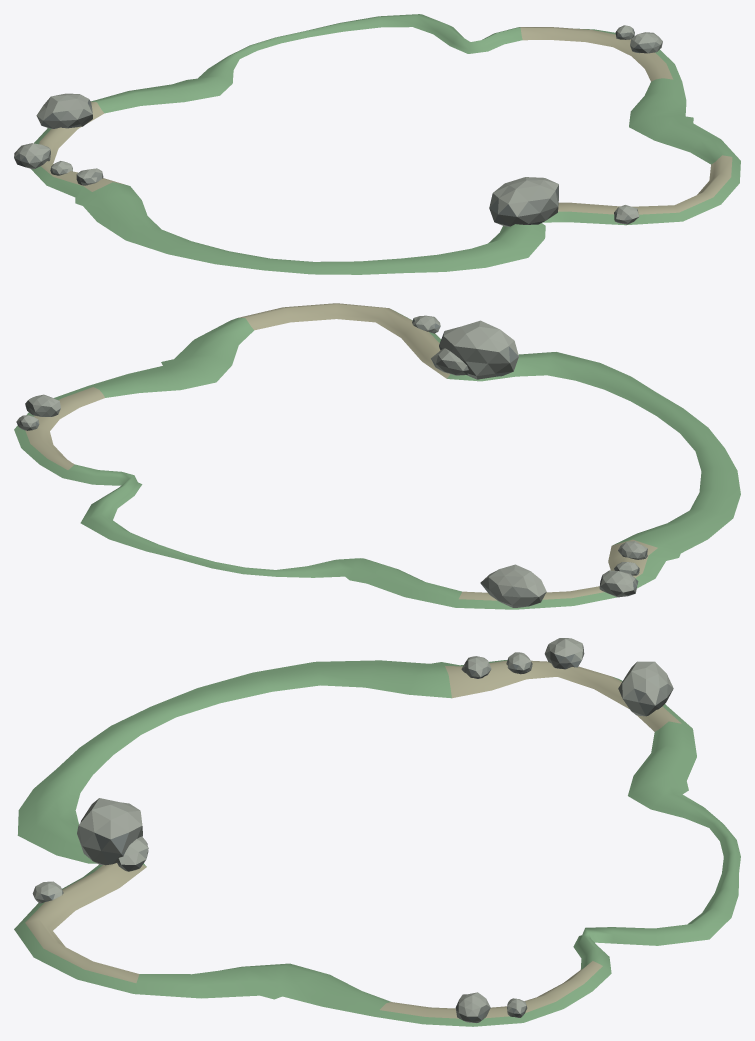
Rendered from PondEdge_Blockout_Detail_v2.glb.
3 views of the same model, one above another, from view 1: azimuth 30°, elevation 25°; view 2: azimuth 150°, elevation 25°; view 3: azimuth 270°, elevation 25° (orthographic). The views are drawn at different scales.
Visible parts, largest first — view 1: Shore_Base_Bank_Upper_v2, Rocks_v2_4, Rocks_v2_0, Rocks_v2_1, Rocks_v2_7; view 2: Shore_Base_Bank_Upper_v2, Rocks_v2_4, Rocks_v2_0, Rocks_v2_1, Rocks_v2_5, Rocks_v2_7; view 3: Shore_Base_Bank_Upper_v2, Rocks_v2_4, Rocks_v2_0, Rocks_v2_1, Rocks_v2_7, Rocks_v2_5.
Part boxes in pixels (x1=…): Shore_Base_Bank_Upper_v2: x1=31, y1=14, x2=740, y2=274; Rocks_v2_4: x1=489, y1=177, x2=558, y2=226; Rocks_v2_0: x1=36, y1=93, x2=92, y2=128; Rocks_v2_1: x1=14, y1=143, x2=50, y2=169; Rocks_v2_7: x1=630, y1=32, x2=662, y2=53; Shore_Base_Bank_Upper_v2: x1=14, y1=303, x2=740, y2=609; Rocks_v2_4: x1=439, y1=320, x2=518, y2=381; Rocks_v2_0: x1=480, y1=564, x2=546, y2=607; Rocks_v2_1: x1=599, y1=570, x2=638, y2=597; Rocks_v2_5: x1=431, y1=348, x2=468, y2=375; Rocks_v2_7: x1=25, y1=394, x2=60, y2=416; Shore_Base_Bank_Upper_v2: x1=14, y1=660, x2=740, y2=1026; Rocks_v2_4: x1=77, y1=798, x2=142, y2=865; Rocks_v2_0: x1=618, y1=661, x2=673, y2=716; Rocks_v2_1: x1=544, y1=638, x2=584, y2=669; Rocks_v2_7: x1=455, y1=992, x2=490, y2=1022; Rocks_v2_5: x1=116, y1=836, x2=148, y2=871.
Size of the model in its own units: 26.14 by 1.86 by 21.61.
